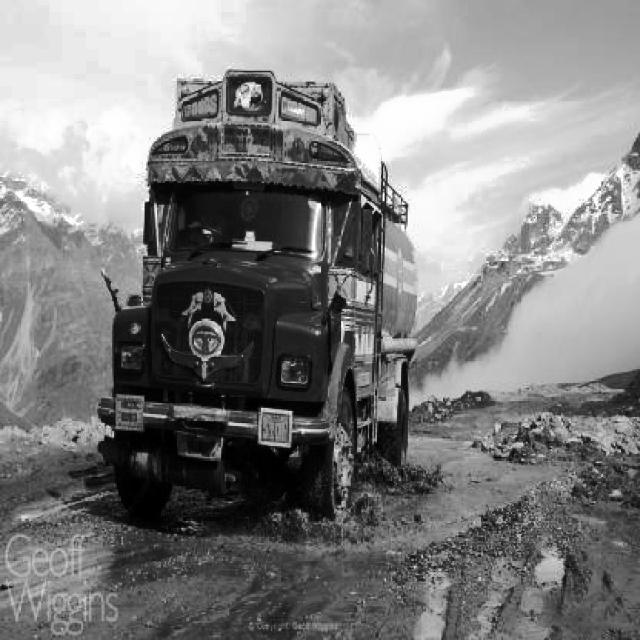HCV: (120, 78, 412, 497)
